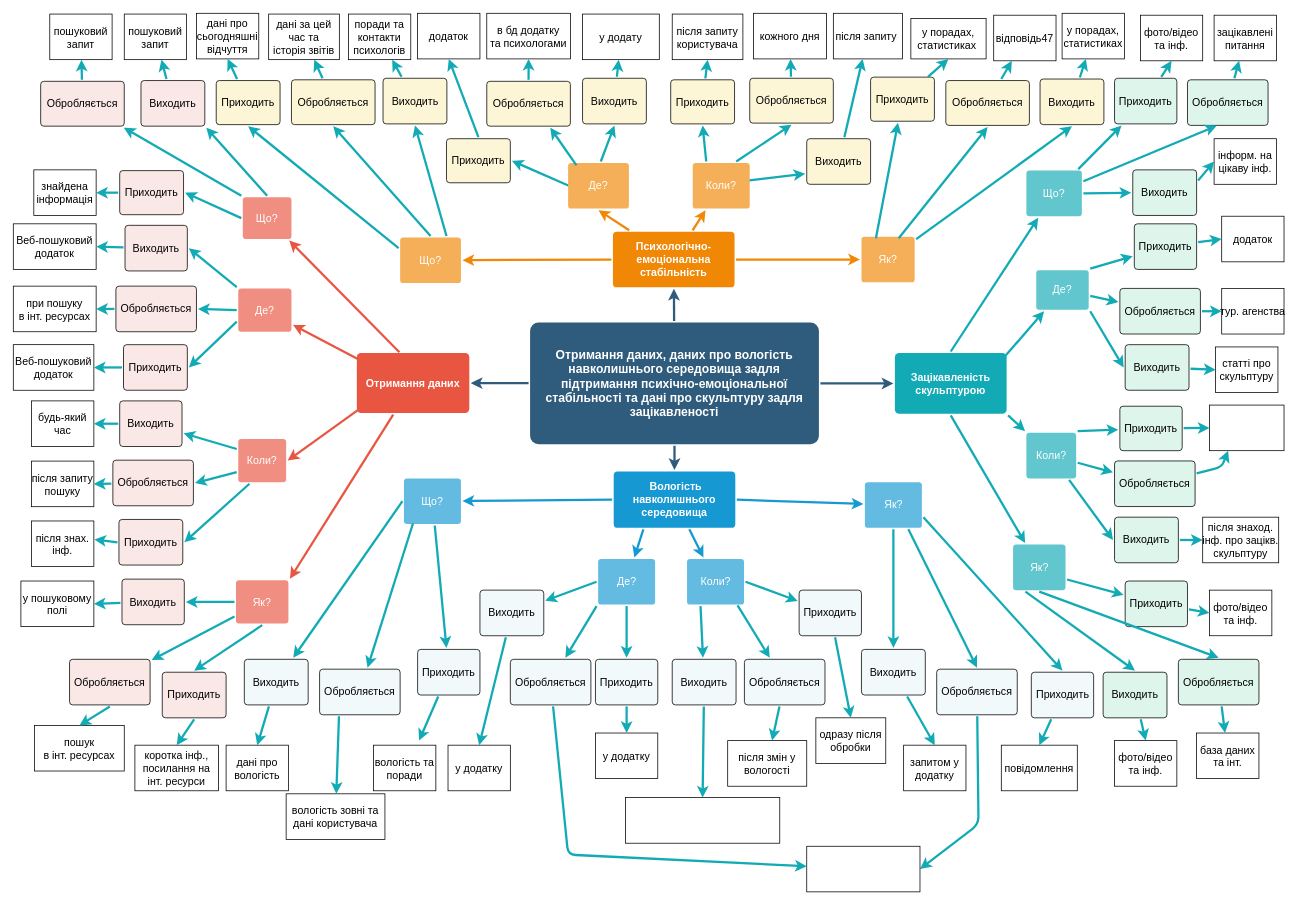
Some shapes in this 1299 by 905 pixel diagram are drawn without their labels. Each missing label, with the box of its shape:
одразу після заціквленності: (1209, 404, 1284, 451)
під час суттевих змін вологості або при запиті чи у таймінги: (625, 797, 780, 843)
у додатку використовуючи інт.: (806, 846, 920, 892)
